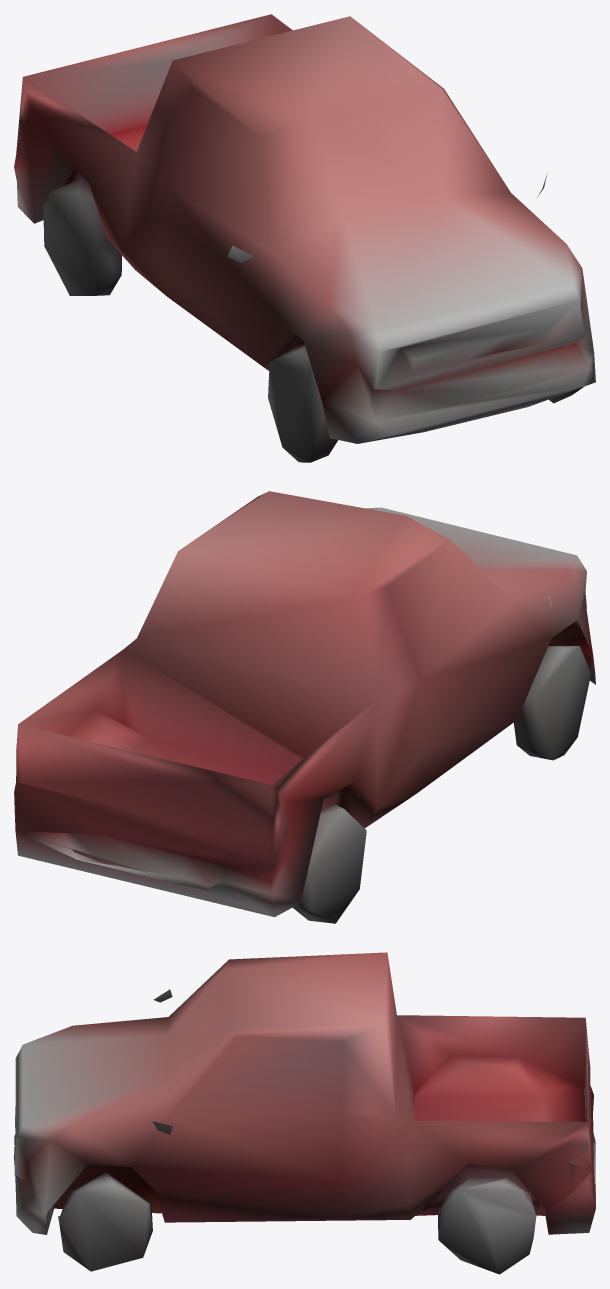
File: truck_far.glb
The picture shows the model from 3 angles, top to bottom: view 1: azimuth 30°, elevation 25°; view 2: azimuth 150°, elevation 25°; view 3: azimuth 270°, elevation 25°; orthographic projection. The views are drawn at different scales.
Parts seen in each view (by area): view 1: truck; view 2: truck; view 3: truck.
Boxes of the visible parts, x1,y1,x2,y2 form: truck: (14,14,595,462); truck: (14,491,595,923); truck: (14,952,595,1274).
Size of the model in its own units: 1.23 by 1 by 2.27.
